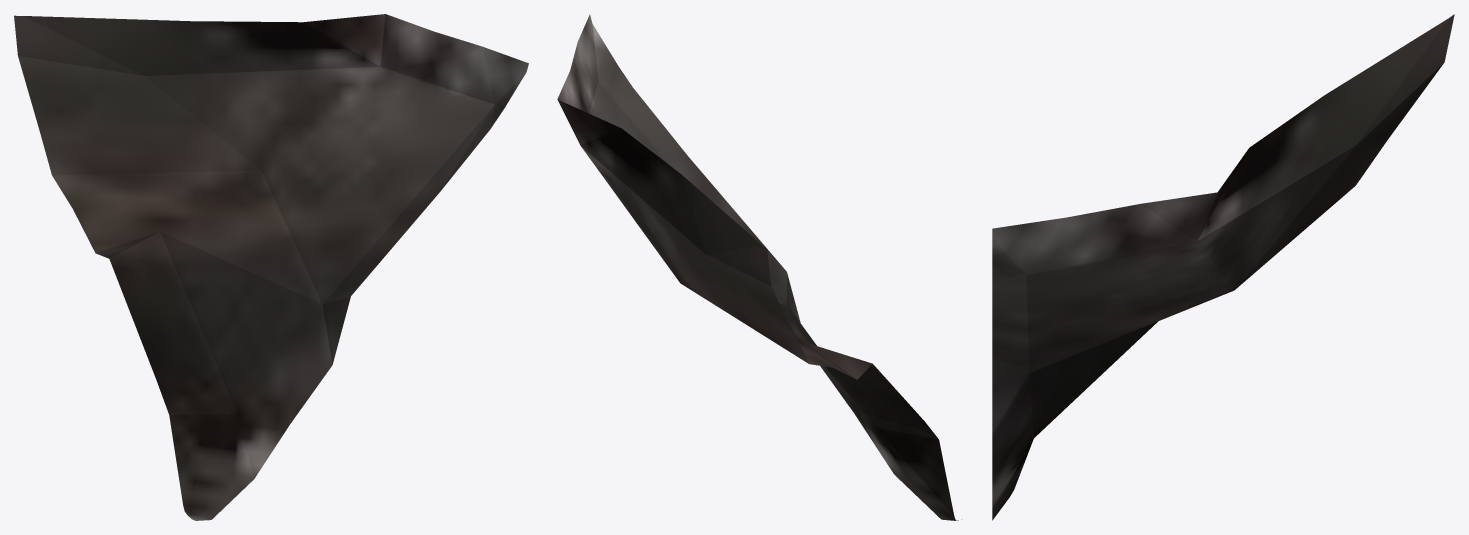
3 renders of one model, left to right at view 1: azimuth 30°, elevation 25°; view 2: azimuth 150°, elevation 25°; view 3: azimuth 270°, elevation 25°, orthographic. The views are drawn at different scales.
Bounding box in the file's own units: 0.0986 × 0.1059 × 0.0898.
1 material, 1 textured.
